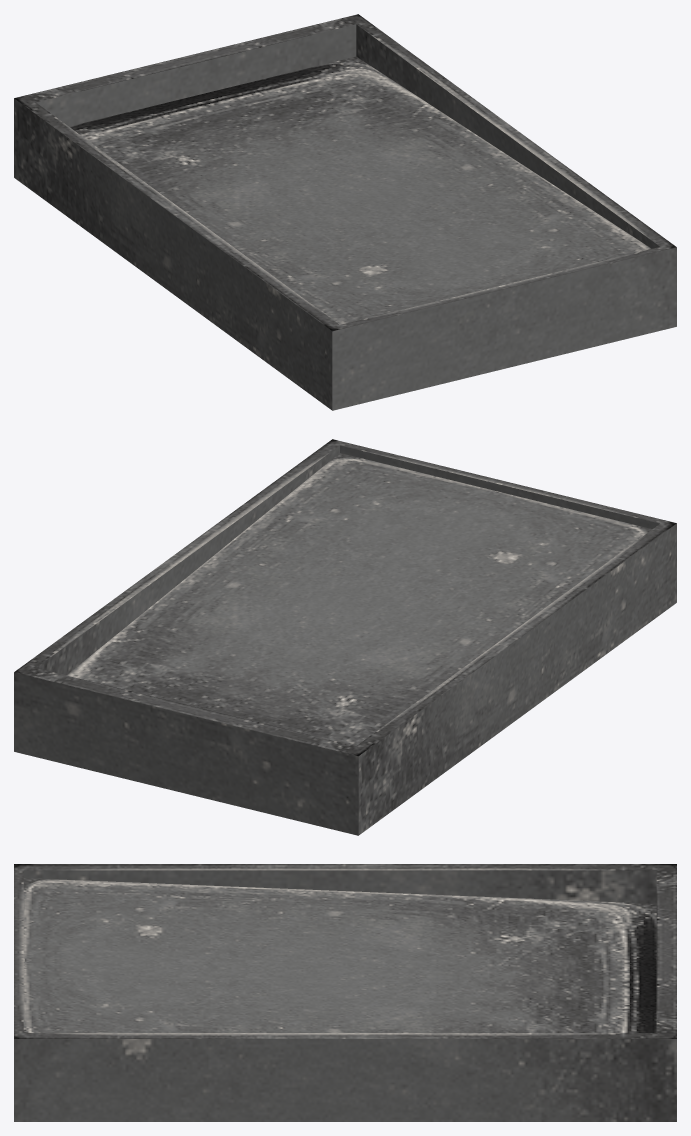
Rendered from inkstone.fbx.
3 renders of one model, top to bottom at view 1: azimuth 30°, elevation 25°; view 2: azimuth 150°, elevation 25°; view 3: azimuth 270°, elevation 25°, orthographic. The views are drawn at different scales.
Visible parts, largest first — view 1: inkstone; view 2: inkstone; view 3: inkstone.
Boxes of the visible parts, x1,y1,x2,y2 form: inkstone: (14,14,676,410); inkstone: (14,439,676,835); inkstone: (14,864,676,1121).
Bounding box in the file's own units: 19.79 × 4.36 × 31.7.
1 material, 1 textured.
